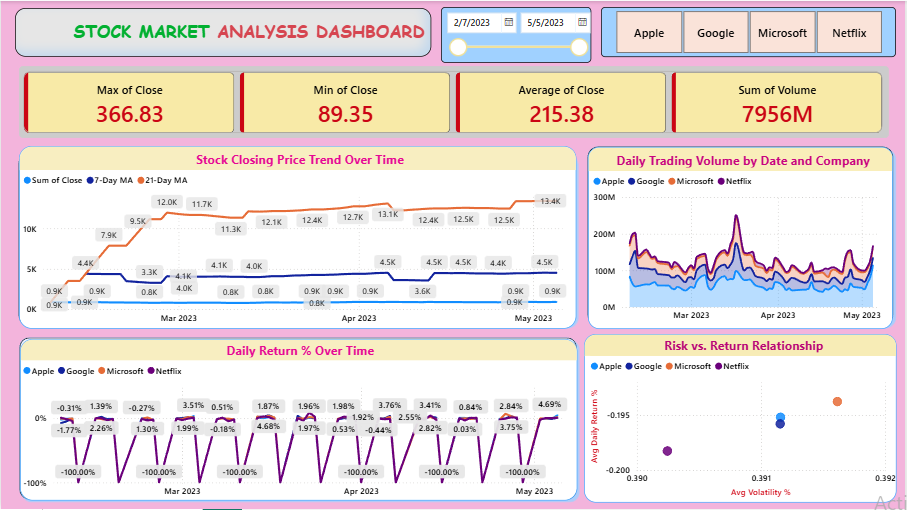

The page's visual inventory and layout, read from the dashboard file:
{"tool":"powerbi","page":{"name":"Advance Visualization","canvas":[1280,720],"ordinal":1},"visuals":[{"type":"textbox","box":[20.2,10.1,589.6,68.9],"z":0},{"type":"slicer","fields":{"Values":["stocks.Company"]},"box":[850,8.4,418.3,70.6],"z":1000},{"type":"slicer","fields":{"Values":["Calendar.Date"]},"box":[623.2,8.8,213.1,78.8],"z":2000},{"type":"shape","box":[20,209.5,799.6,255.1],"z":3000},{"type":"shape","box":[826.7,201,443.3,263.7],"z":4000},{"type":"lineChart","title":"Stock Closing Price Trend Over Time","fields":{"Category":["Calendar.Date"],"Y":["Sum(stocks.Close)","stocks.7-Day MA","stocks.21-Day MA"]},"box":[25.7,205.3,789.7,259.4],"z":5000},{"type":"cardVisual","fields":{"Data":["Max(stocks.Close)","Min(stocks.Close)1","Avg(stocks.Close)2","Sum(stocks.Volume)"]},"box":[24.8,91.9,1233.3,102.2],"z":6000},{"type":"shape","box":[21.4,471.8,799.6,239.5],"z":7000},{"type":"stackedAreaChart","title":"Daily Trading Volume by Date and Company","fields":{"Category":["stocks.Date"],"Y":["Sum(stocks.Volume)"],"Series":["stocks.Company"]},"box":[832.4,206.7,431.9,258],"z":8000},{"type":"lineChart","title":"Daily Return % Over Time","fields":{"Category":["Calendar.Date"],"Series":["stocks.Company"],"Y":["stocks.Daily_Return %"]},"box":[27.1,478.9,789.7,229.5],"z":9000},{"type":"scatterChart","title":"Risk vs. Return Relationship","fields":{"X":["stocks.Avg Volatility %"],"Y":["stocks.Avg Daily Return %"],"Series":["stocks.Company"],"Size":["stocks.Avg Daily Return %"]},"box":[827,472,443,239],"z":10000}]}

Visuals, with their boxes in screenshot pixels (x1, y1, x2, y2), scaled from the page's 1280x720 canvas onto the 907x510 screenshot:
textbox: rect(14, 7, 432, 56)
slicer - stocks.Company: rect(602, 6, 899, 56)
slicer - Calendar.Date: rect(442, 6, 593, 62)
shape: rect(14, 148, 581, 329)
shape: rect(586, 142, 900, 329)
"Stock Closing Price Trend Over Time" lineChart: rect(18, 145, 578, 329)
cardVisual - Max(stocks.Close) x Min(stocks.Close)1: rect(18, 65, 891, 137)
shape: rect(15, 334, 582, 504)
"Daily Trading Volume by Date and Company" stackedAreaChart: rect(590, 146, 896, 329)
"Daily Return % Over Time" lineChart: rect(19, 339, 579, 502)
"Risk vs. Return Relationship" scatterChart: rect(586, 334, 900, 504)
